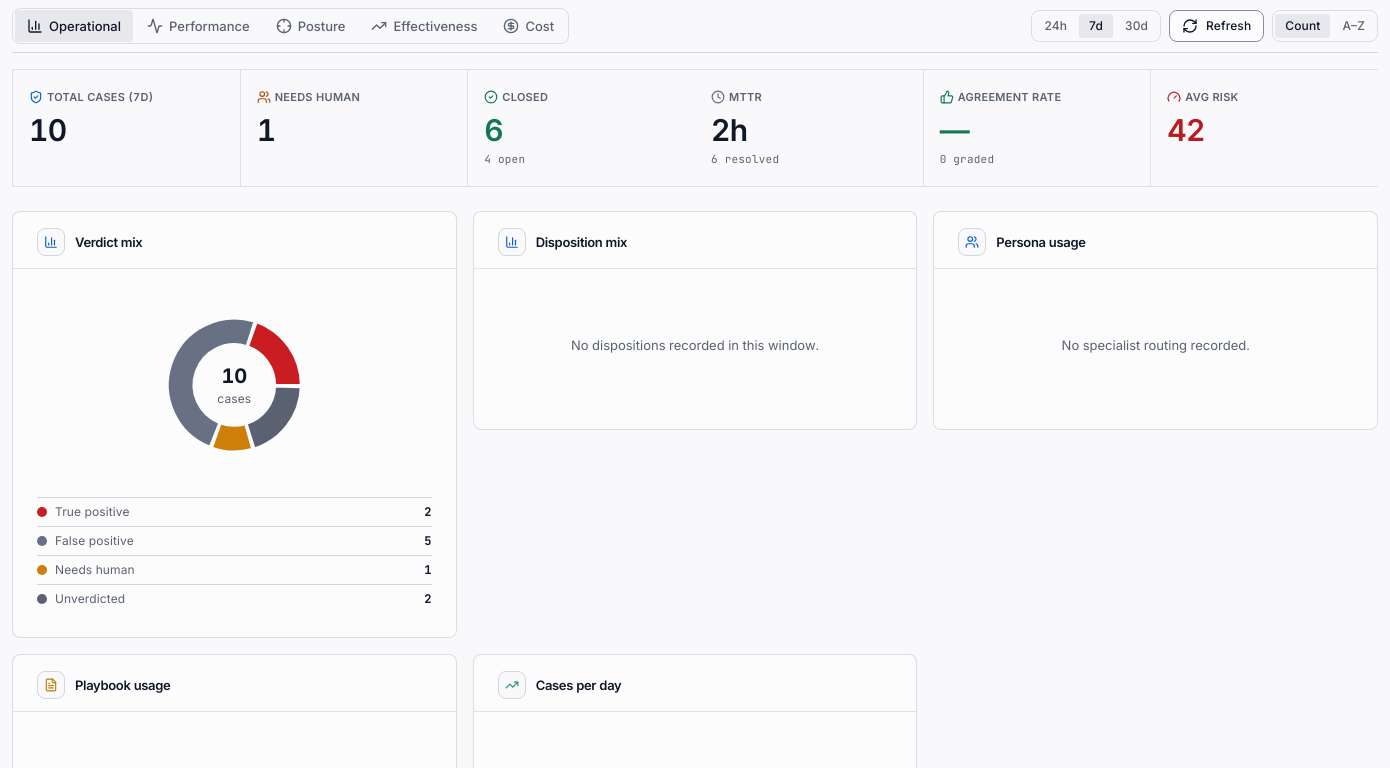
Metrics posture (Round 3 / F5) › renders the Performance tab with the server lifecycle p50 + honest DASH
The width and height of the screenshot is (1390, 768).
What coordinates should you click on to do the following:
click the tab with test id "metrics-tab-performance"
I would click on:
 (198, 26)
Its box is [135,10,262,42].
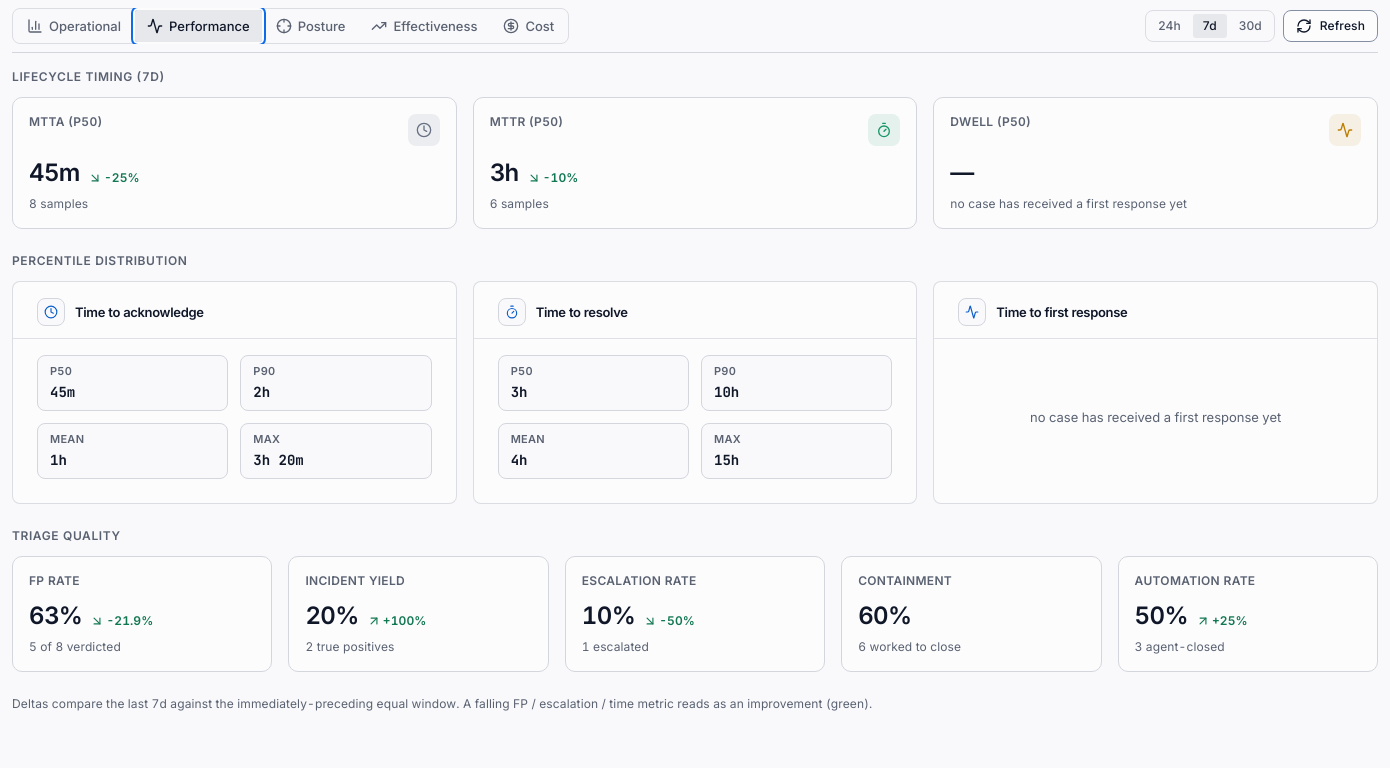
Now the text "MTTA (p50)" is shown, box [29,114,102,130]
Now the text "45m" next to "-25%" is shown, box [29,158,80,187]
Now the text "3h" next to "-10%" is shown, box [490,158,519,187]
